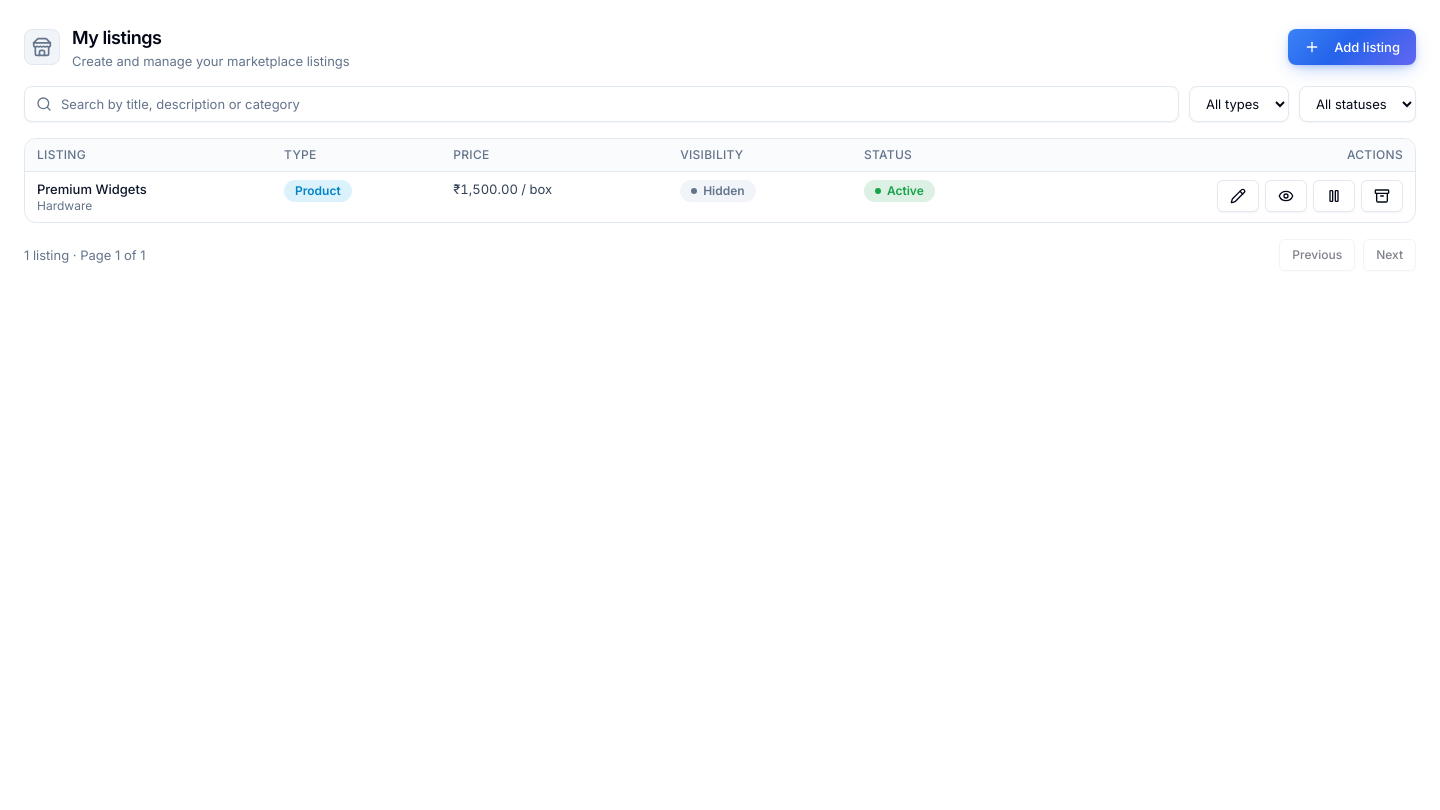
Scenario: MyListingsView › opens the create form when add listing is clicked
Click the button "Add listing" at (1352, 47), box [1288,29,1416,65]
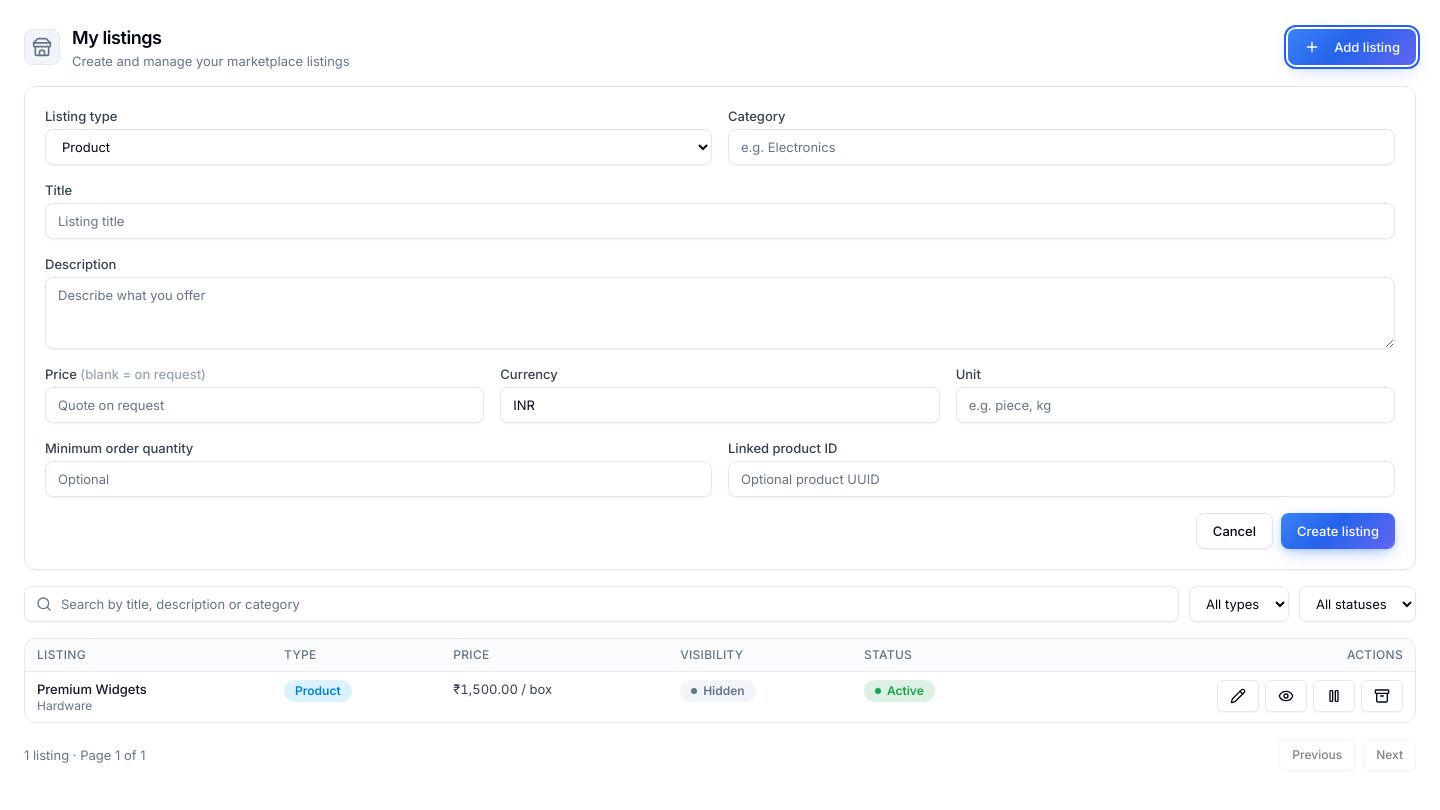
Now the form named "create listing" is shown, box [24,86,1416,570]
